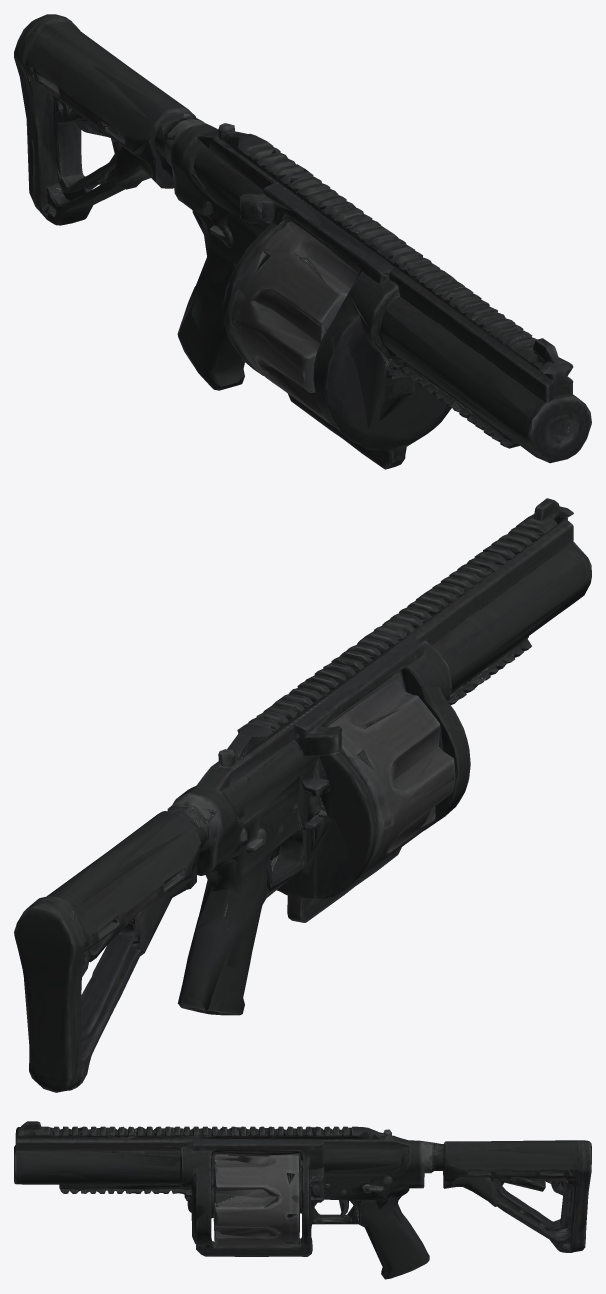
File: revolving_launcher.glb
3 views of the same model, one above another, from view 1: azimuth 30°, elevation 25°; view 2: azimuth 150°, elevation 25°; view 3: azimuth 270°, elevation 25° (orthographic). The views are drawn at different scales.
Parts seen in each view (by area): view 1: model, mesh_lod; view 2: model, mesh_lod; view 3: model, mesh_lod.
Boxes of the visible parts, x1=… form: model: x1=14, y1=14, x2=591, y2=469; mesh_lod: x1=22, y1=15, x2=578, y2=462; model: x1=14, y1=498, x2=591, y2=1092; mesh_lod: x1=14, y1=502, x2=590, y2=1090; model: x1=14, y1=1121, x2=591, y2=1279; mesh_lod: x1=14, y1=1126, x2=590, y2=1271.
Bounding box in the file's own units: 0.1447 × 0.2503 × 0.85.
1 material, 1 textured.
